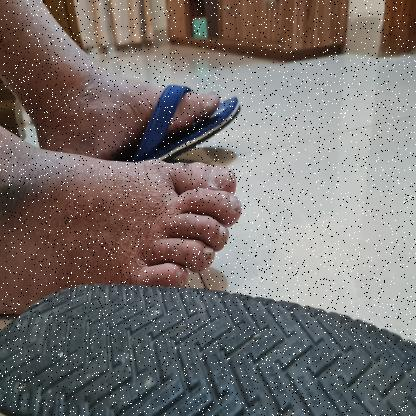leg: (0, 125, 251, 323), (0, 0, 244, 161)
